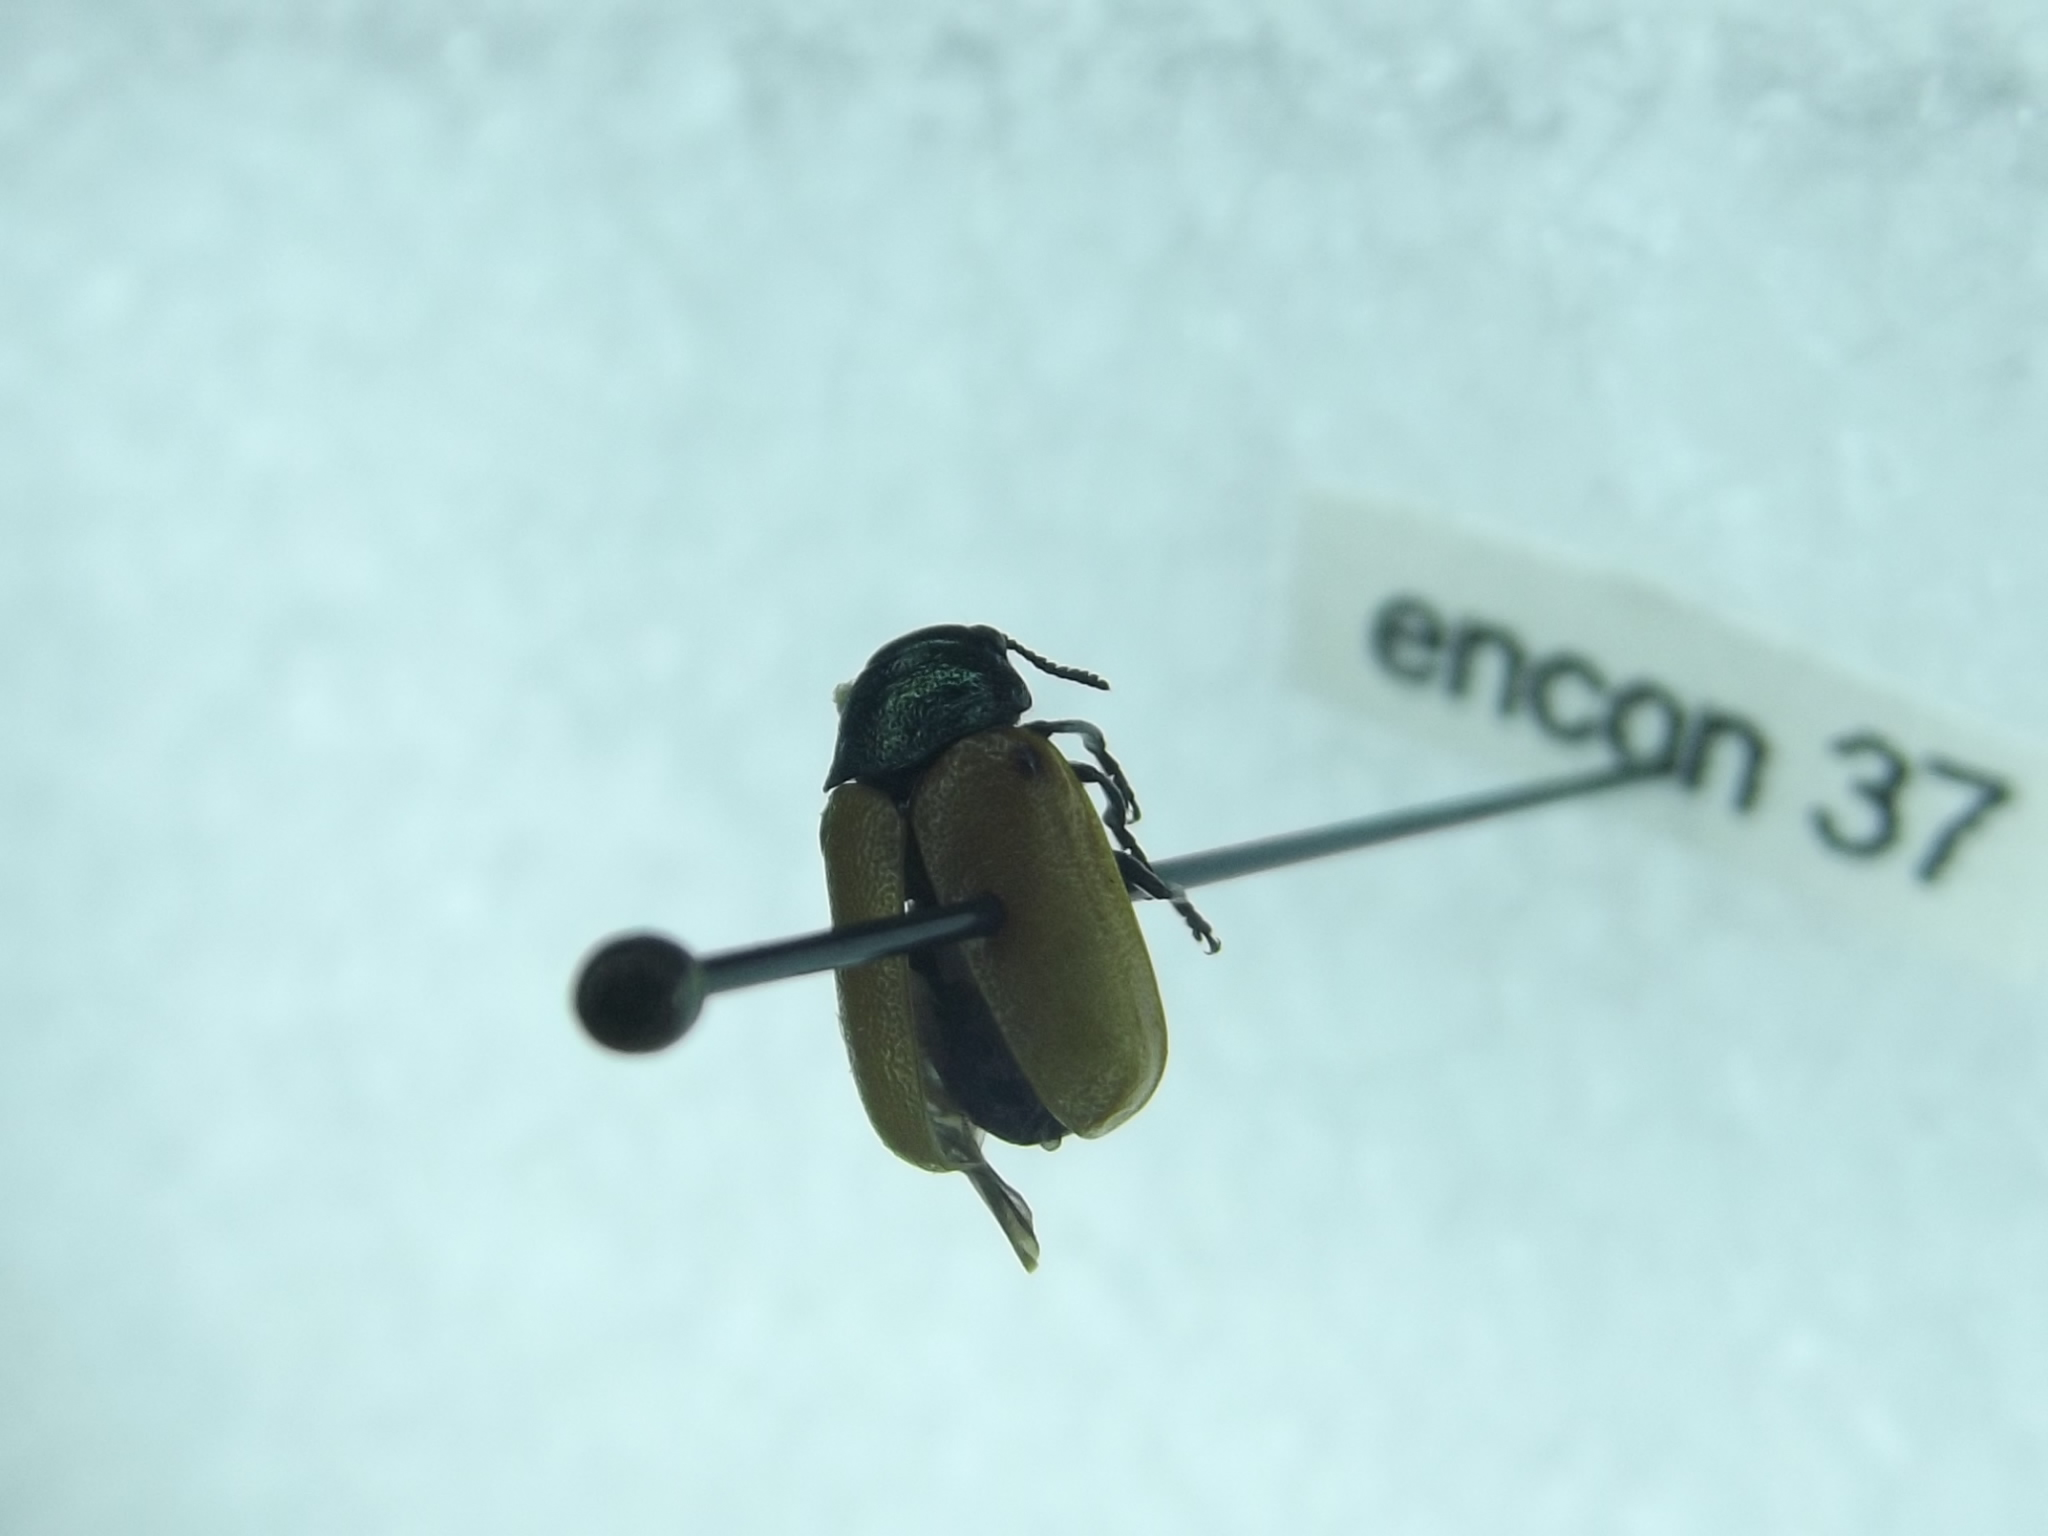Labidostomis_longimana: (813, 615, 1232, 1270)
